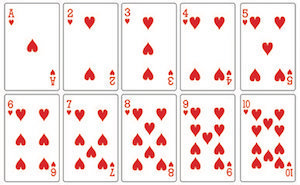AceOfHearts: (3, 2, 61, 92)
NineOfHearts: (178, 92, 238, 184)
TenOfHearts: (239, 92, 298, 185)
